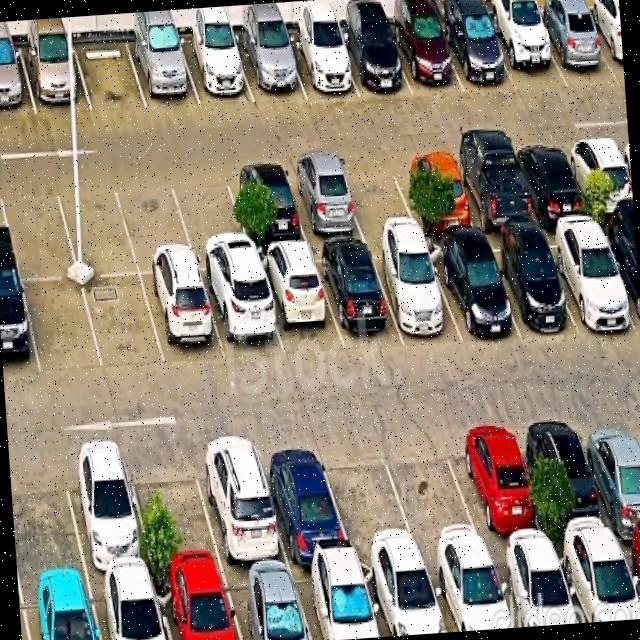empty: (378, 423, 487, 556), (317, 431, 420, 556), (124, 445, 223, 574), (9, 449, 86, 584), (168, 167, 254, 270), (54, 177, 139, 277), (115, 173, 197, 274), (82, 274, 165, 370), (0, 179, 78, 279), (22, 279, 103, 375), (335, 156, 418, 236), (73, 39, 146, 110)
occupied: (446, 418, 548, 550), (190, 434, 289, 569), (521, 413, 617, 544), (254, 436, 352, 563), (59, 446, 153, 577), (539, 223, 638, 330), (479, 233, 576, 337), (424, 238, 520, 343), (255, 248, 343, 358), (312, 244, 403, 349), (368, 241, 462, 342), (576, 411, 640, 538), (140, 272, 226, 366), (199, 269, 284, 360), (448, 146, 536, 230), (224, 163, 308, 249), (424, 552, 514, 632), (554, 539, 640, 622), (489, 548, 579, 627), (291, 562, 379, 640), (283, 159, 365, 242), (359, 559, 446, 637), (484, 13, 568, 93), (509, 139, 590, 220), (393, 151, 477, 229), (532, 12, 618, 87), (221, 569, 311, 640), (388, 17, 464, 96), (438, 16, 516, 92), (154, 572, 240, 640), (334, 24, 412, 97), (562, 136, 633, 214), (178, 36, 254, 106), (126, 37, 200, 108), (19, 42, 91, 114), (89, 576, 169, 640), (283, 31, 358, 98), (596, 221, 640, 331), (234, 34, 305, 102), (20, 580, 100, 640), (0, 277, 40, 378), (584, 9, 624, 82), (0, 46, 36, 116), (617, 536, 640, 603)
